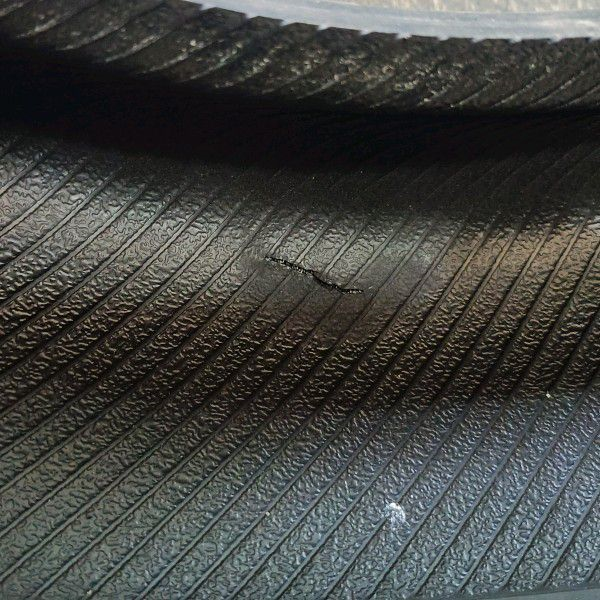CBU: (252, 248, 369, 308)
